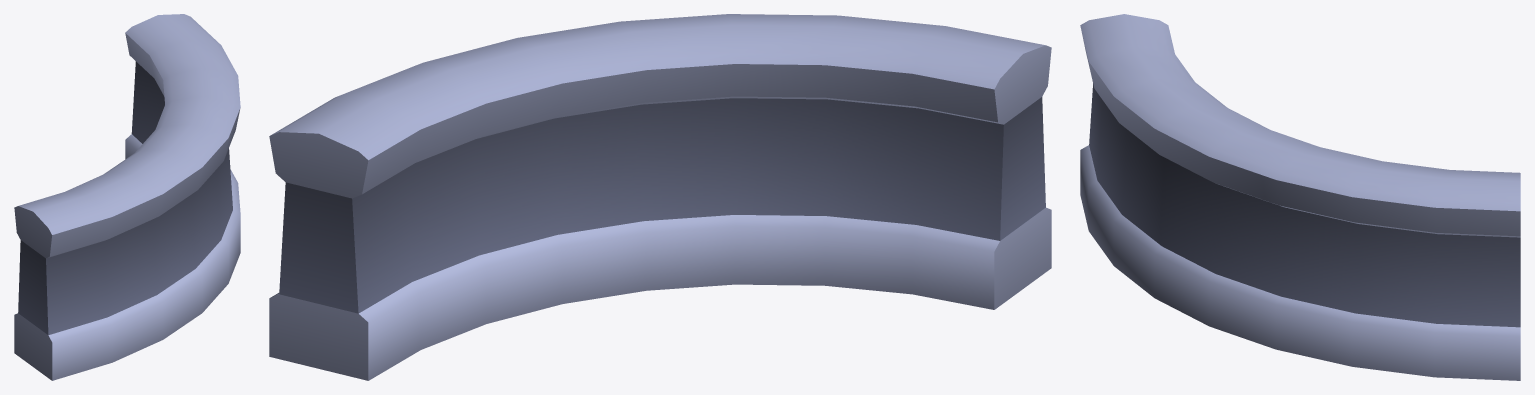
Rendered from stone-wall-curve.004_lev1.glb.
The picture shows the model from 3 angles, left to right: view 1: azimuth 30°, elevation 25°; view 2: azimuth 150°, elevation 25°; view 3: azimuth 270°, elevation 25°; orthographic projection. The views are drawn at different scales.
Parts seen in each view (by area): view 1: stone-wall-curve.004_lev1; view 2: stone-wall-curve.004_lev1; view 3: stone-wall-curve.004_lev1.
Part boxes in pixels (x1=…): stone-wall-curve.004_lev1: x1=14, y1=14, x2=240, y2=380; stone-wall-curve.004_lev1: x1=269, y1=14, x2=1051, y2=380; stone-wall-curve.004_lev1: x1=1080, y1=14, x2=1520, y2=380.
Bounding box in the file's own units: 2 × 0.9063 × 2.
Materials: 1 (1 with a texture image).
